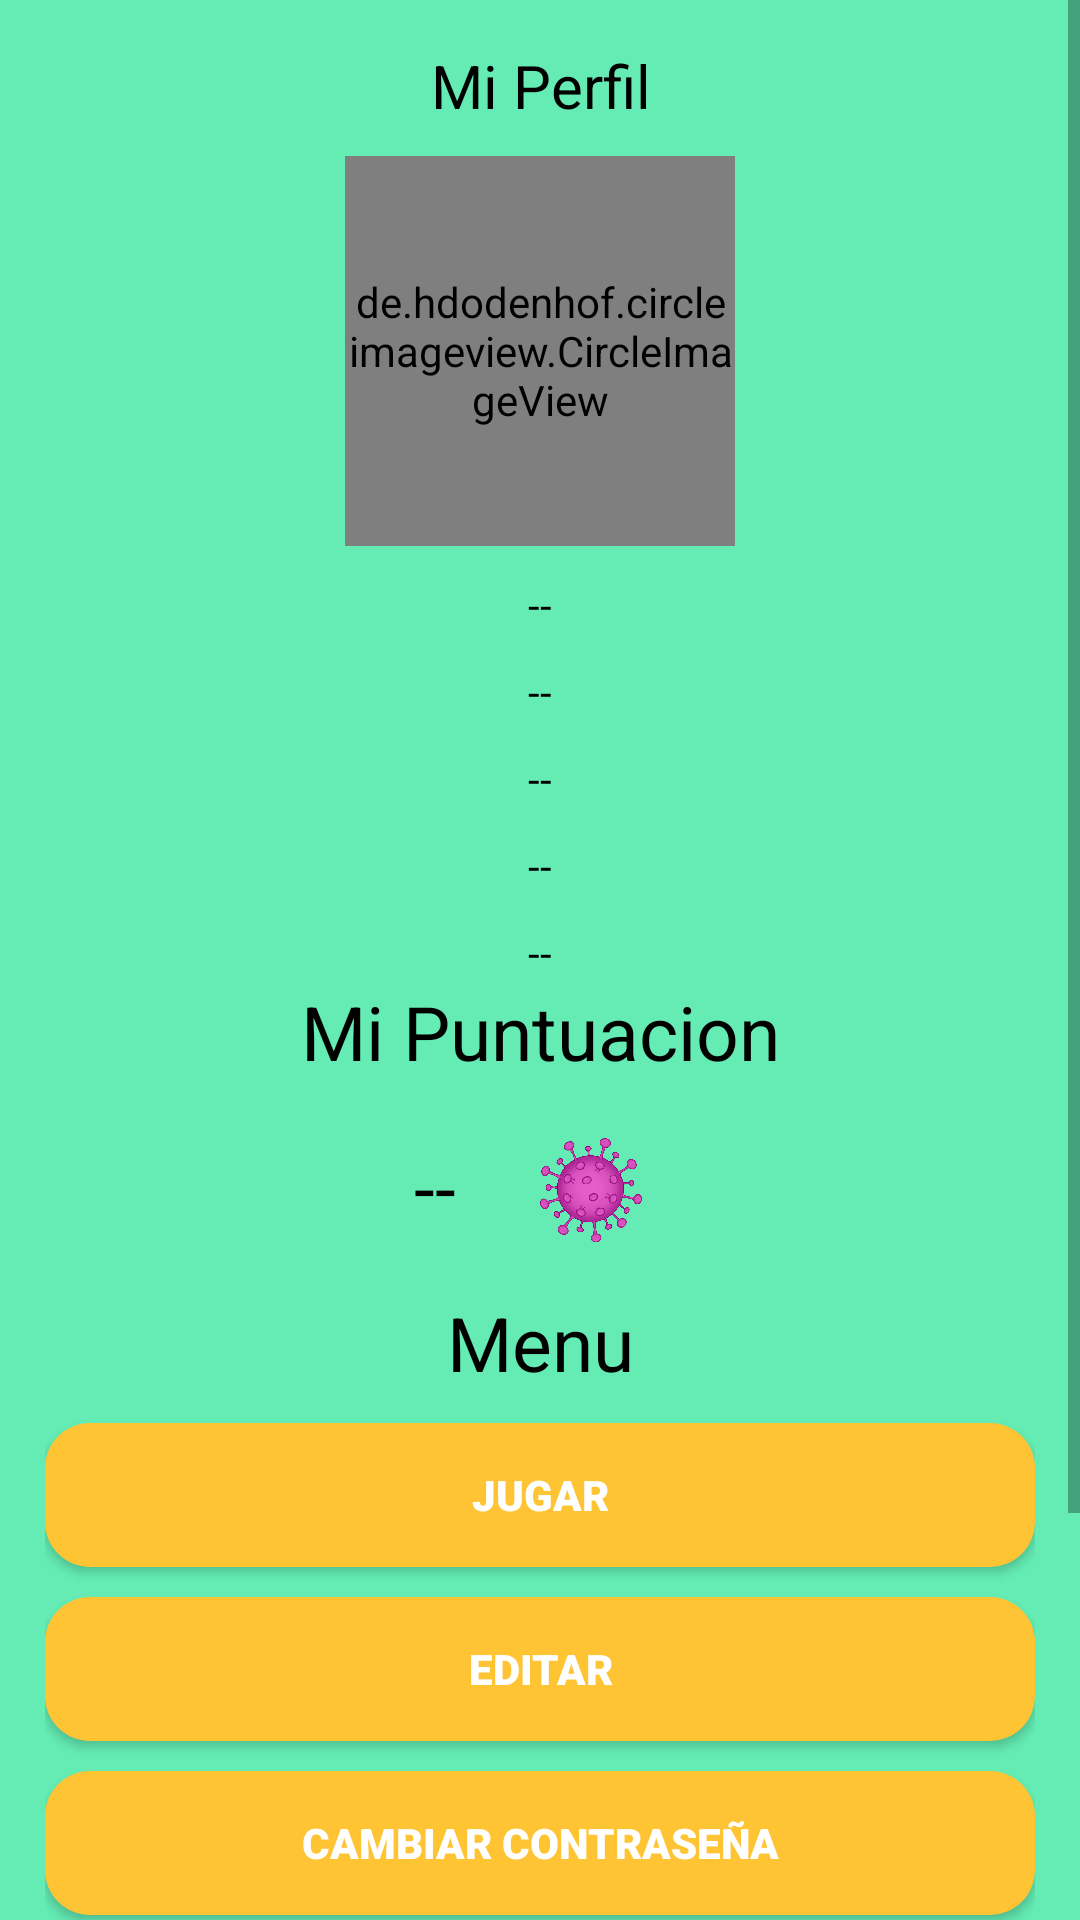

Icon click points for this 1080px x 1920px phone screenshot, format (x=x, y=y):
virus: (x=591, y=1190)
